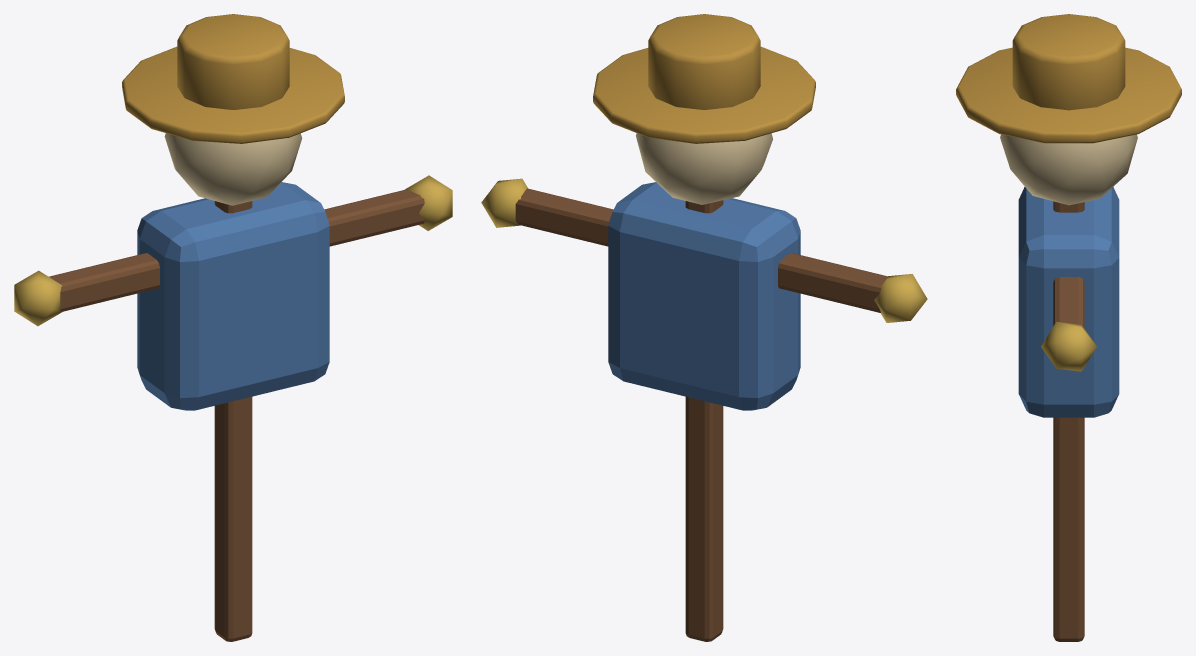
Rendered from scarecrow.fbx.
The picture shows the model from 3 angles, left to right: view 1: azimuth 30°, elevation 25°; view 2: azimuth 150°, elevation 25°; view 3: azimuth 270°, elevation 25°; orthographic projection.
Visible parts, largest first — view 1: scarecrow; view 2: scarecrow; view 3: scarecrow.
Boxes of the visible parts, x1,y1,x2,y2 form: scarecrow: (14, 14, 452, 641); scarecrow: (481, 14, 927, 641); scarecrow: (956, 14, 1181, 641).
Bounding box in the file's own units: 0.8005 × 1.06 × 0.36.
